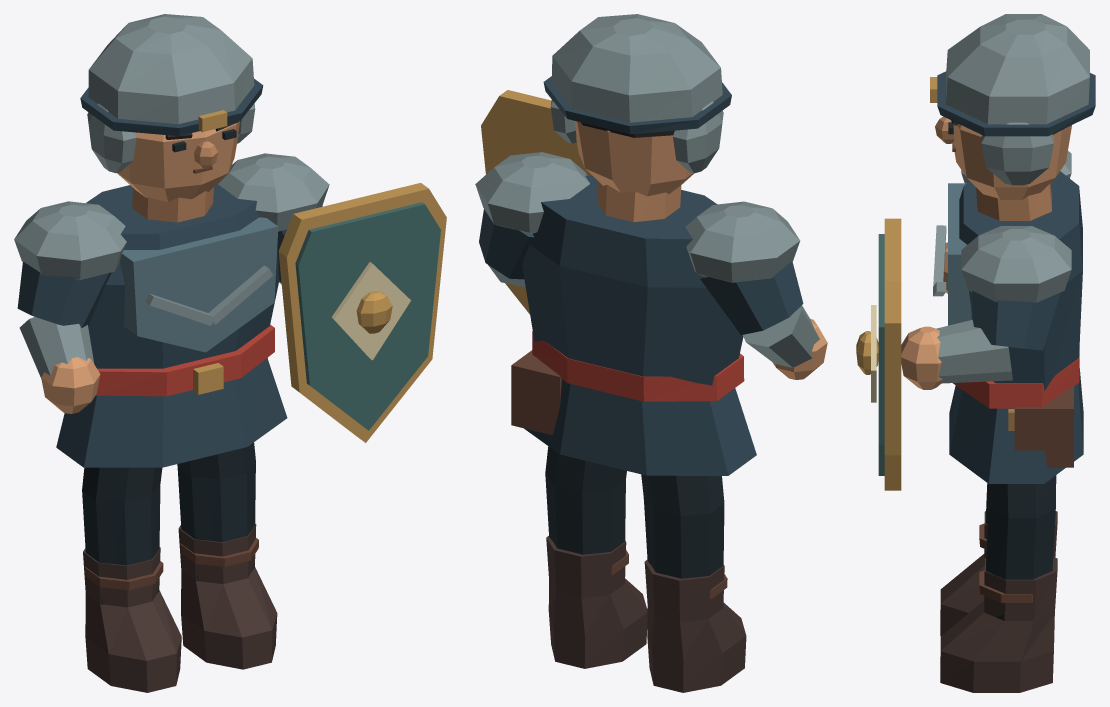
File: hero-guard.glb
The picture shows the model from 3 angles, left to right: view 1: azimuth 30°, elevation 25°; view 2: azimuth 150°, elevation 25°; view 3: azimuth 270°, elevation 25°; orthographic projection. The views are drawn at different scales.
Visible parts, largest first — view 1: body, arm_l, arm_r; view 2: body, arm_r, arm_l; view 3: body, arm_l, arm_r.
Part boxes in pixels (x1,y1,x2,y2): body: (56,14,287,692); arm_l: (218,153,446,442); arm_r: (14,201,126,413); body: (511,14,756,692); arm_r: (685,201,827,379); arm_l: (475,90,591,314); body: (930,14,1095,692); arm_l: (856,218,1071,490); arm_r: (943,151,1071,293).
Bounding box in the file's own units: 1.1 × 1.8 × 0.6254.
